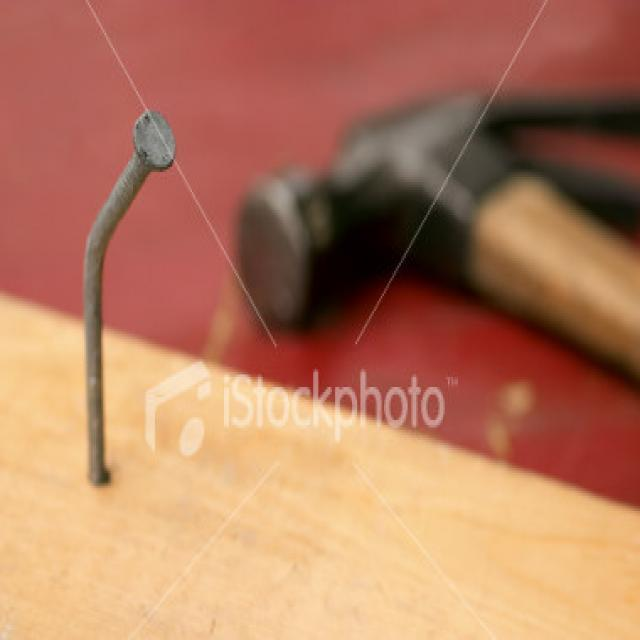hammer: (232, 91, 640, 430)
